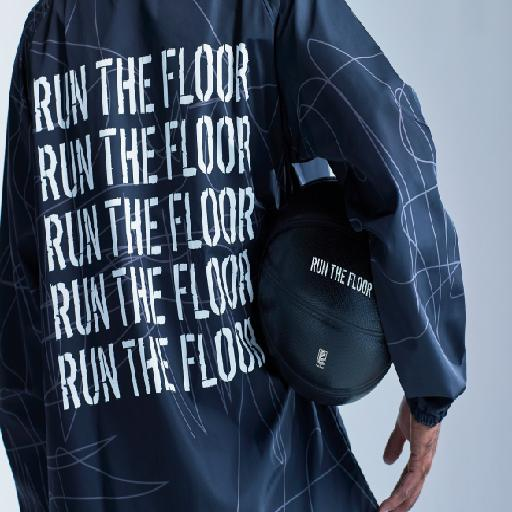ball: (253, 177, 397, 405)
